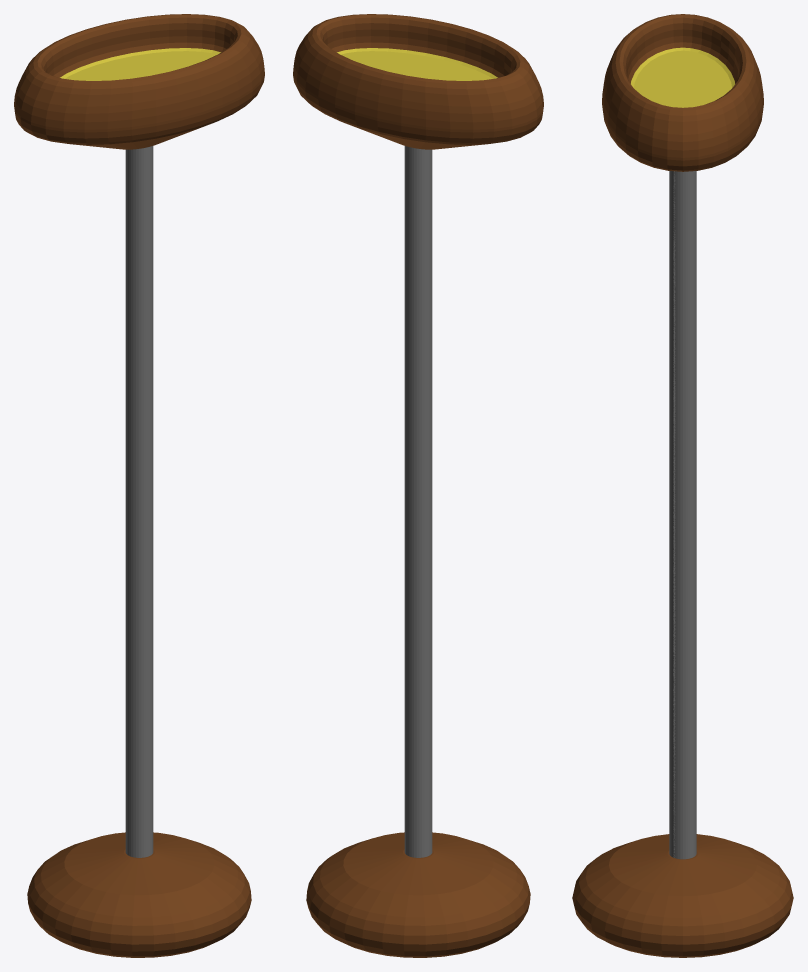
Rendered from lampada.obj.
3 views of the same model, side by side, from view 1: azimuth 30°, elevation 25°; view 2: azimuth 150°, elevation 25°; view 3: azimuth 270°, elevation 25° (orthographic).
Visible parts, largest first — view 1: Cylinder.003_Cylinder.005, Cylinder, Cylinder.001_Cylinder.002; view 2: Cylinder.003_Cylinder.005, Cylinder, Cylinder.001_Cylinder.002; view 3: Cylinder, Cylinder.003_Cylinder.005, Cylinder.001_Cylinder.002.
Part boxes in pixels (x1=…): Cylinder.003_Cylinder.005: x1=14, y1=14, x2=264, y2=149; Cylinder: x1=27, y1=832, x2=251, y2=957; Cylinder.001_Cylinder.002: x1=125, y1=146, x2=153, y2=857; Cylinder.003_Cylinder.005: x1=293, y1=14, x2=543, y2=149; Cylinder: x1=306, y1=832, x2=530, y2=957; Cylinder.001_Cylinder.002: x1=404, y1=146, x2=432, y2=857; Cylinder: x1=572, y1=834, x2=793, y2=957; Cylinder.003_Cylinder.005: x1=602, y1=14, x2=763, y2=171; Cylinder.001_Cylinder.002: x1=669, y1=171, x2=696, y2=859.
Size of the model in its own units: 1.17 by 4.13 by 0.9606.
